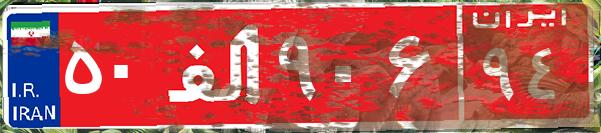0: (330, 28, 385, 110), (110, 28, 158, 105)
4: (525, 38, 570, 115)
5: (57, 26, 110, 107)
6: (385, 28, 445, 110)
9: (273, 28, 330, 110), (475, 38, 525, 113)
الف: (158, 15, 273, 115)
